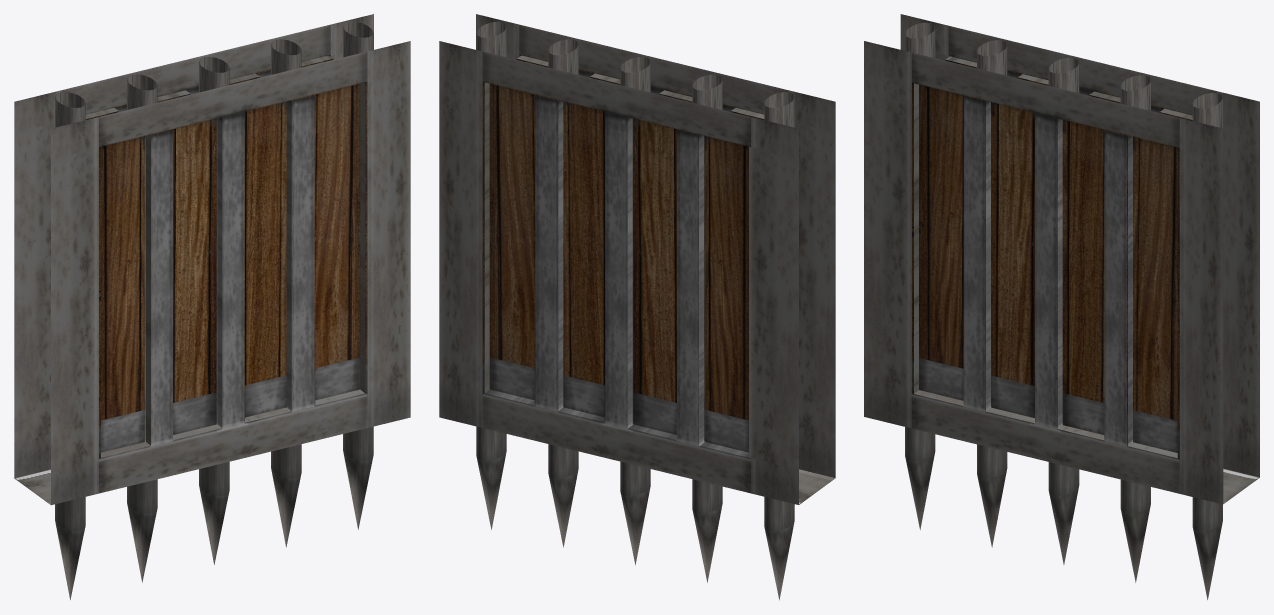
The model's file is dungeon_door.glb.
3 renders of one model, left to right at view 1: azimuth 30°, elevation 25°; view 2: azimuth 150°, elevation 25°; view 3: azimuth 330°, elevation 25°, orthographic.
Parts seen in each view (by area): view 1: door; view 2: door; view 3: door.
Boxes of the visible parts, x1,y1,x2,y2 form: door: [14, 14, 410, 599]; door: [439, 14, 835, 600]; door: [864, 14, 1259, 599].
Bounding box in the file's own units: 3.11 × 4.14 × 0.5509.
1 material, 1 textured.
